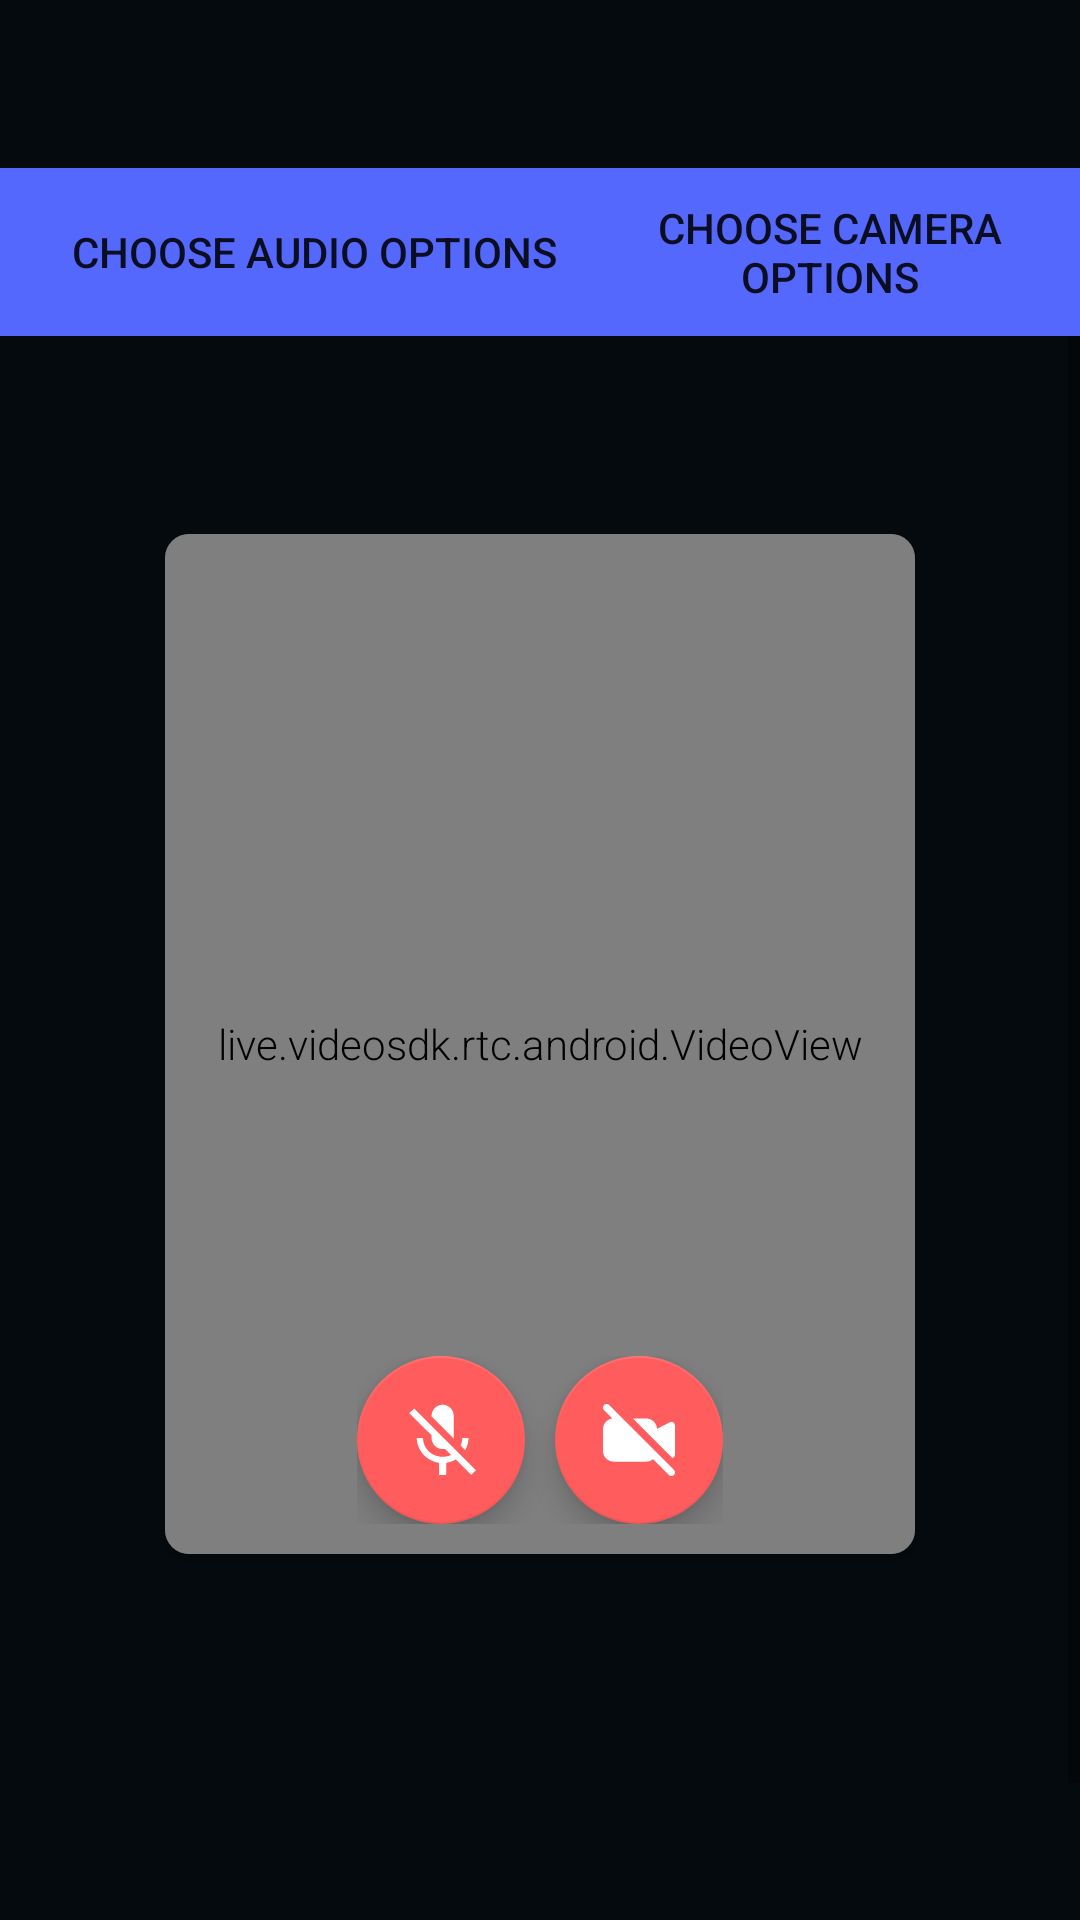

Icon bounding boxes for this 1080 × 1920 phone screenshot, format (x1, y1, x2, y2):
mic off: (357, 1356, 525, 1524)
video camera off: (555, 1356, 723, 1524)
